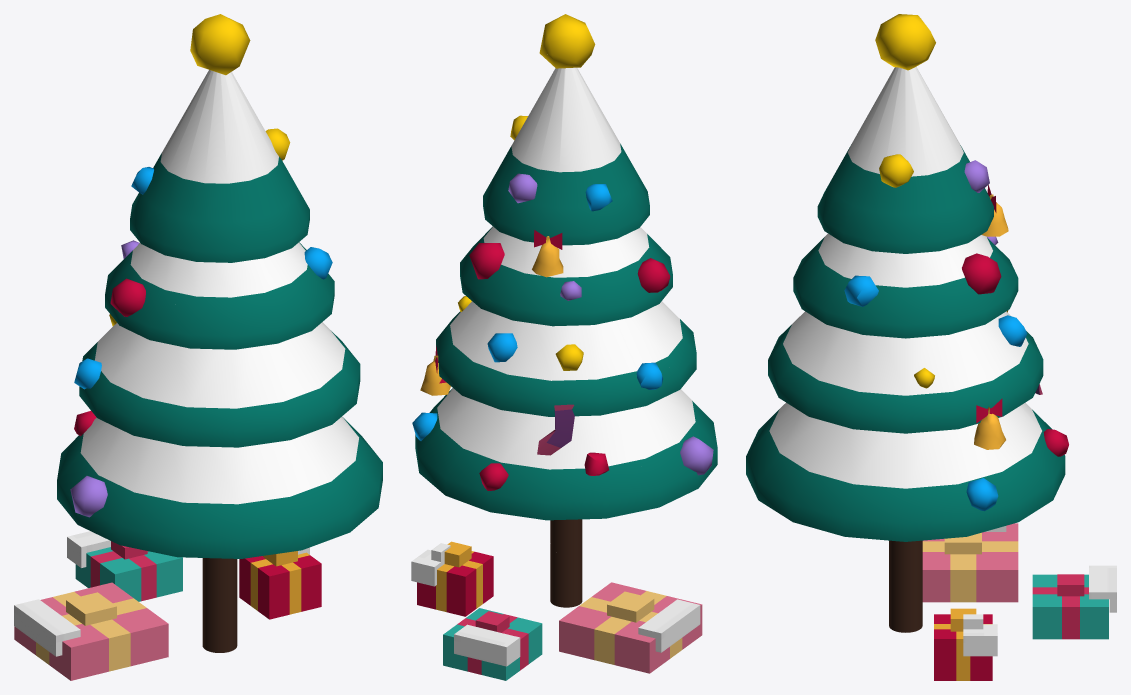
Rendered from christmastree_rootss54.fbx.
3 views of the same model, side by side, from view 1: azimuth 30°, elevation 25°; view 2: azimuth 150°, elevation 25°; view 3: azimuth 270°, elevation 25° (orthographic). The views are drawn at different scales.
Visible parts, largest first — view 1: christmastree_Break_RD_sh_33, christmastree_Break_RD_sh_29, christmastree_Break_RD_sh_32, christmastree_Break_RD_sh_28, christmastree_Break_RD_sh_31, christmastree_Break_RD_sh_35, christmastree_Break_RD_sh_27, christmastree_Break_RD_sh_34, christmastree_Break_RD_sh_30, christmastree_Break_RD_sh_39, christmastree_Break_RD_sh_15, christmastree_Break_RD_sh_22 (+10 smaller); view 2: christmastree_Break_RD_sh_31, christmastree_Break_RD_sh_26, christmastree_Break_RD_sh_27, christmastree_Break_RD_sh_33, christmastree_Break_RD_sh_35, christmastree_Break_RD_sh_28, christmastree_Break_RD_sh_24, christmastree_Break_RD_sh_32, christmastree_Break_RD_sh_38, christmastree_Break_RD_sh_21, christmastree_Break_RD_sh_30, christmastree_Break_RD_sh_40 (+23 smaller); view 3: christmastree_Break_RD_sh_26, christmastree_Break_RD_sh_29, christmastree_Break_RD_sh_28, christmastree_Break_RD_sh_31, christmastree_Break_RD_sh_27, christmastree_Break_RD_sh_35, christmastree_Break_RD_sh_22, christmastree_Break_RD_sh_30, christmastree_Break_RD_sh_15, christmastree_Break_RD_sh_33, christmastree_Break_RD_sh_38, christmastree_Break_RD_sh_47 (+12 smaller).
Boxes of the visible parts, x1,y1,x2,y2 form: christmastree_Break_RD_sh_33: (61, 346, 334, 558); christmastree_Break_RD_sh_29: (258, 283, 382, 537); christmastree_Break_RD_sh_32: (130, 135, 256, 318); christmastree_Break_RD_sh_28: (214, 130, 334, 312); christmastree_Break_RD_sh_31: (69, 203, 236, 461); christmastree_Break_RD_sh_35: (14, 582, 139, 680); christmastree_Break_RD_sh_27: (131, 70, 264, 214); christmastree_Break_RD_sh_34: (148, 309, 272, 349); christmastree_Break_RD_sh_30: (202, 558, 237, 652); christmastree_Break_RD_sh_39: (247, 561, 321, 619); christmastree_Break_RD_sh_15: (196, 14, 250, 75); christmastree_Break_RD_sh_22: (124, 551, 182, 601); christmastree_Break_RD_sh_31: (460, 227, 672, 483); christmastree_Break_RD_sh_26: (415, 301, 608, 519); christmastree_Break_RD_sh_27: (516, 67, 611, 231); christmastree_Break_RD_sh_33: (636, 301, 717, 497); christmastree_Break_RD_sh_35: (559, 589, 702, 673); christmastree_Break_RD_sh_28: (460, 131, 549, 263); christmastree_Break_RD_sh_24: (542, 477, 678, 520); christmastree_Break_RD_sh_32: (601, 110, 661, 250); christmastree_Break_RD_sh_38: (417, 553, 490, 616); christmastree_Break_RD_sh_21: (459, 620, 542, 680); christmastree_Break_RD_sh_30: (550, 527, 582, 607); christmastree_Break_RD_sh_40: (638, 599, 700, 652); christmastree_Break_RD_sh_26: (867, 352, 1065, 541); christmastree_Break_RD_sh_29: (753, 258, 900, 538); christmastree_Break_RD_sh_28: (809, 140, 993, 338); christmastree_Break_RD_sh_31: (817, 189, 1042, 363); christmastree_Break_RD_sh_27: (859, 66, 969, 171); christmastree_Break_RD_sh_35: (922, 523, 1018, 602); christmastree_Break_RD_sh_22: (1032, 580, 1108, 639); christmastree_Break_RD_sh_30: (889, 540, 922, 632); christmastree_Break_RD_sh_15: (875, 14, 931, 69); christmastree_Break_RD_sh_33: (746, 311, 809, 491); christmastree_Break_RD_sh_38: (938, 614, 992, 680); christmastree_Break_RD_sh_47: (963, 614, 997, 656).
Bounding box in the file's own units: 260 × 526 × 290.
2 materials, 1 textured.
